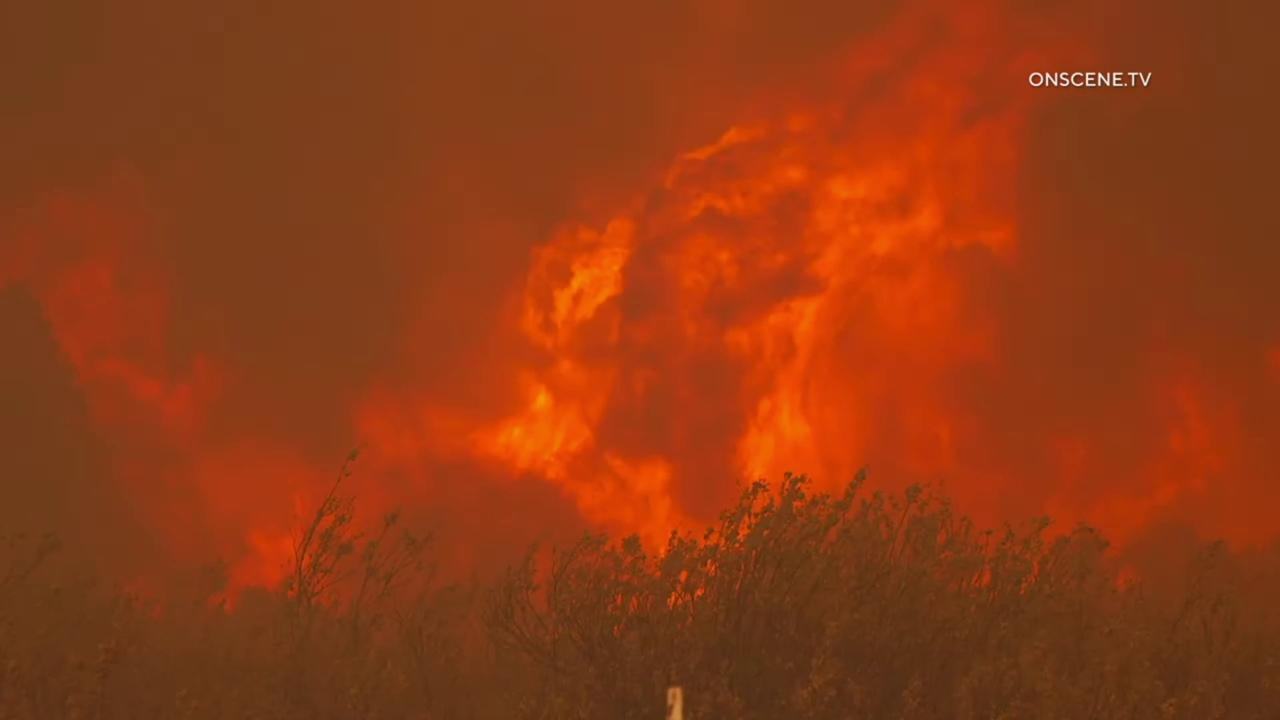fire: (0, 0, 1280, 629)
smoke: (0, 0, 1280, 720)
